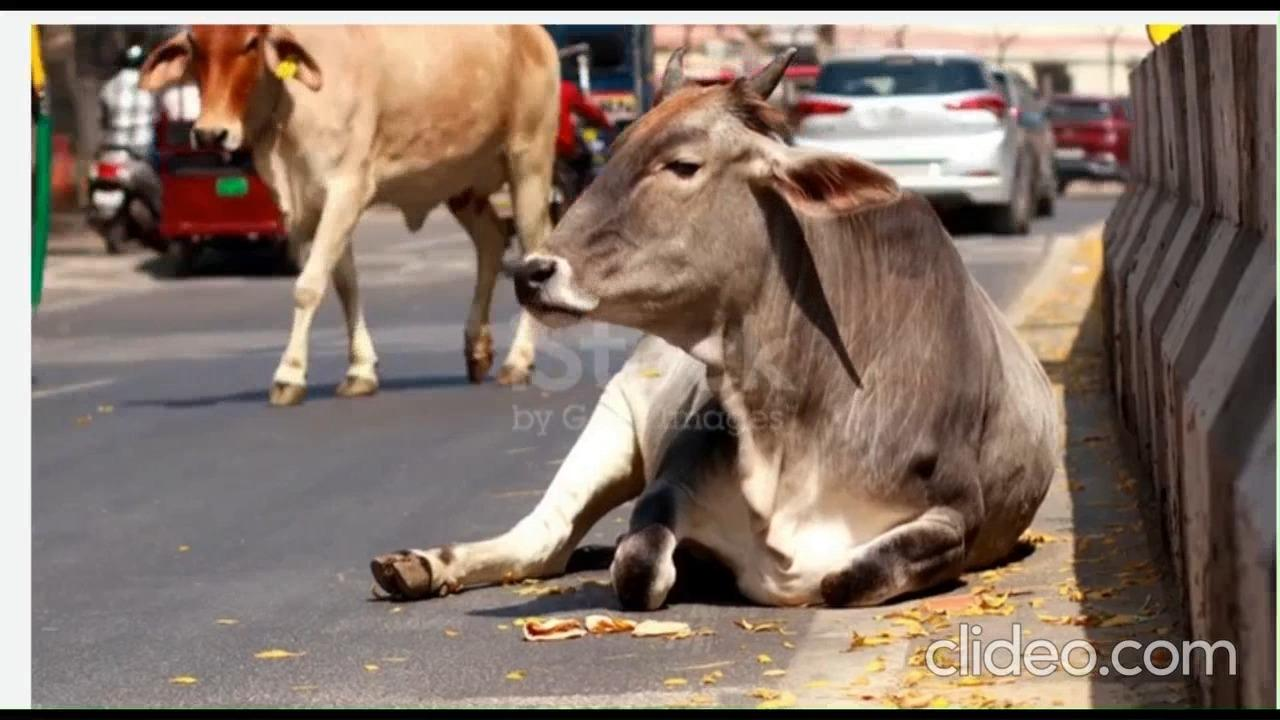Cow: (376, 40, 1064, 591), (133, 25, 567, 405)
